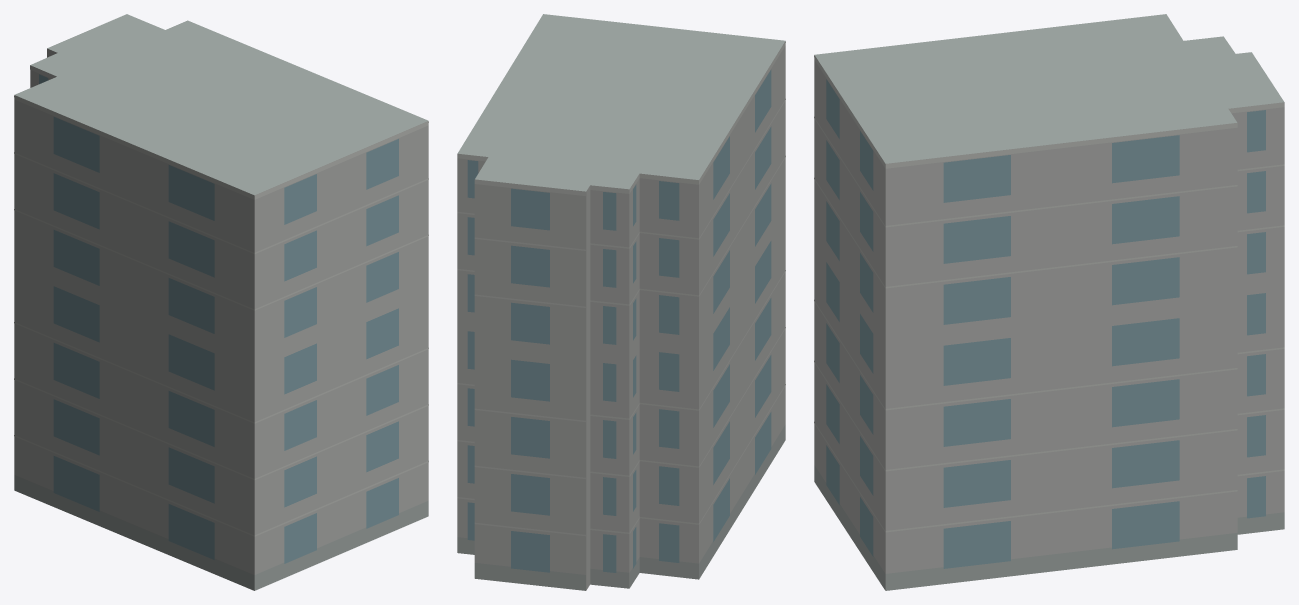
Rendered from survey-upis-32770446.glb.
The picture shows the model from 3 angles, left to right: view 1: azimuth 30°, elevation 25°; view 2: azimuth 150°, elevation 25°; view 3: azimuth 270°, elevation 25°; orthographic projection. The views are drawn at different scales.
Visible parts, largest first — view 1: survey-upis-32770446.tmp; view 2: survey-upis-32770446.tmp; view 3: survey-upis-32770446.tmp.
Boxes of the visible parts, left/top/right/bottom form: survey-upis-32770446.tmp: left=14, top=14, right=428, bottom=590; survey-upis-32770446.tmp: left=457, top=14, right=785, bottom=590; survey-upis-32770446.tmp: left=814, top=14, right=1284, bottom=590.
Size of the model in its own units: 15.9 by 21.1 by 21.08.
